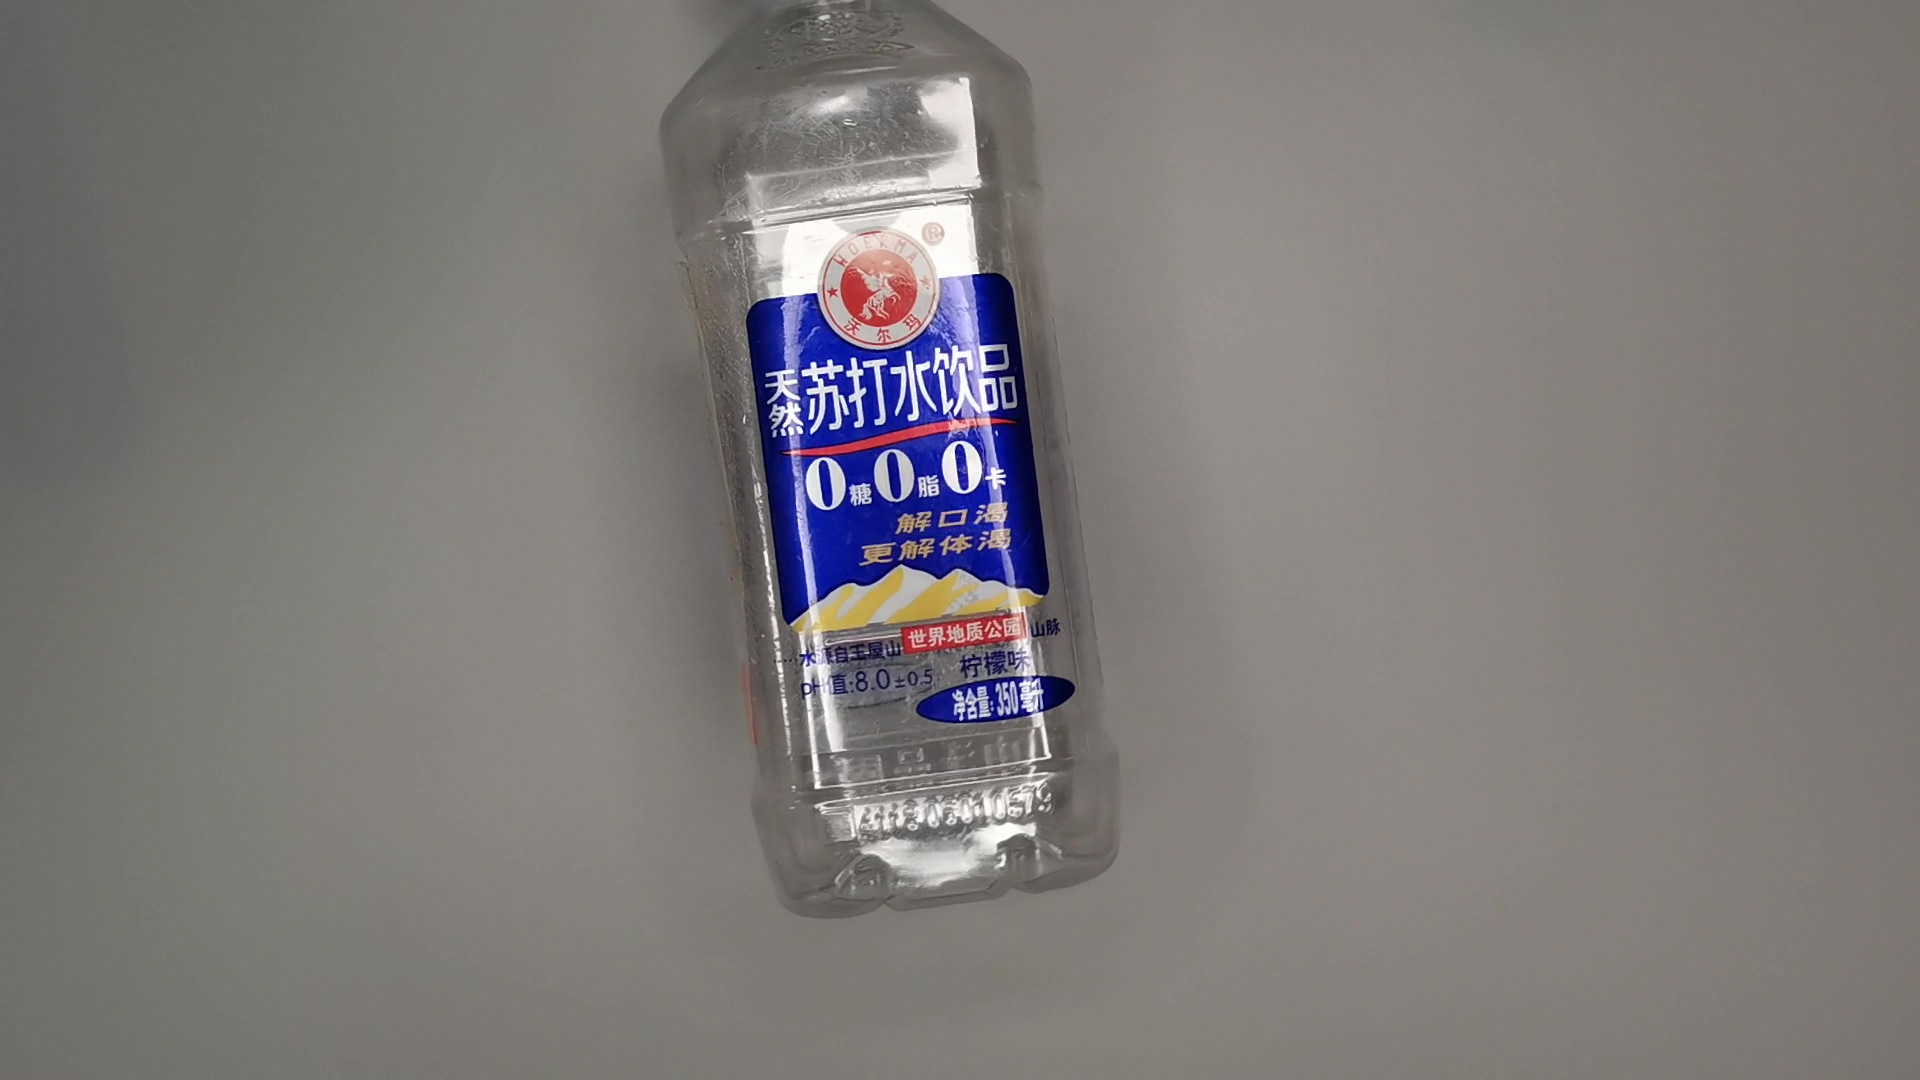bottle: (553, 1, 1222, 928)
